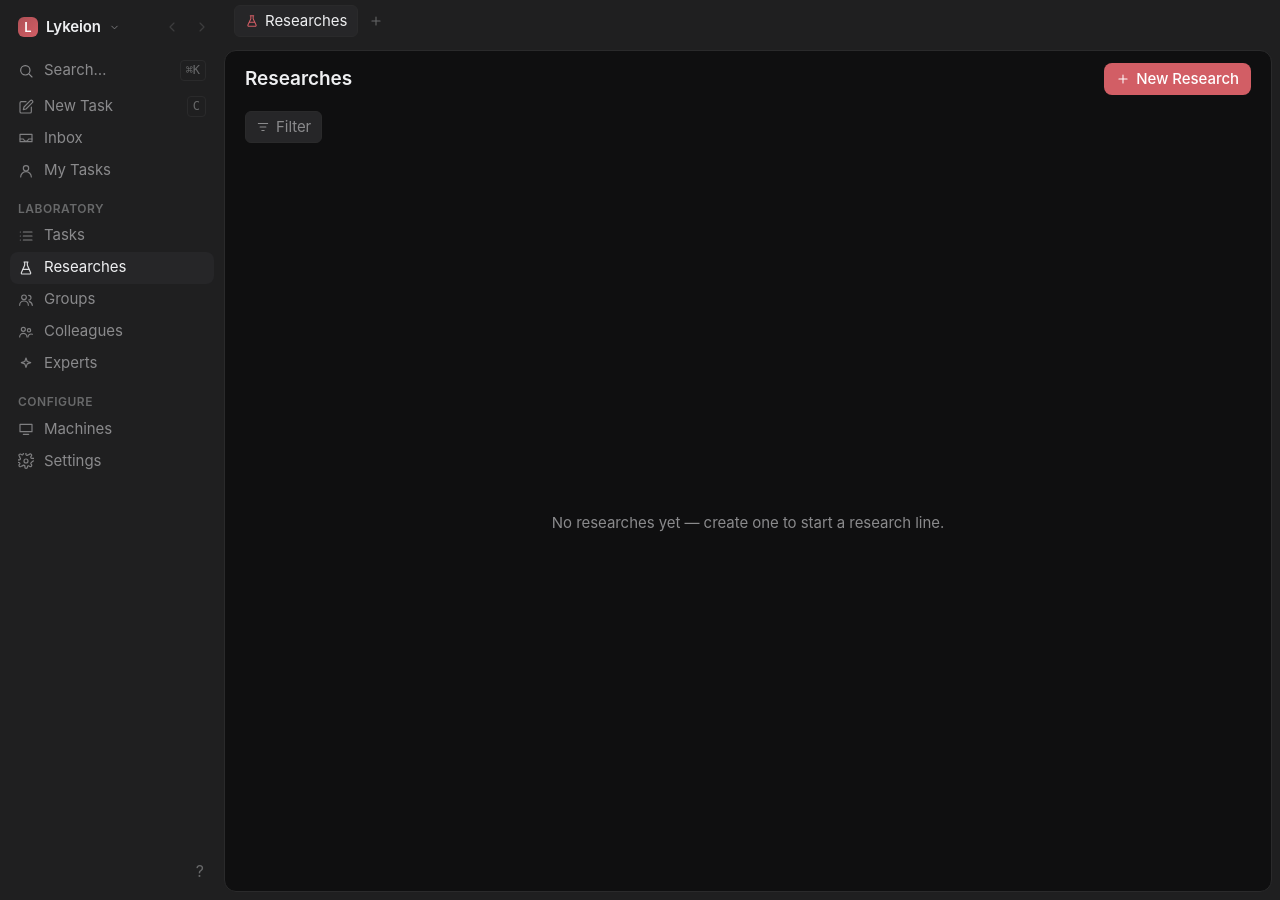
Test: a session that lapses mid-visit lands on the sign-in screen, not a shell stuck failing silently
Check: the button with aria-label "Workspace" is shown, box [10, 10, 128, 44]
Click the link "Inbox".
click(50, 138)  # box [18, 128, 83, 147]
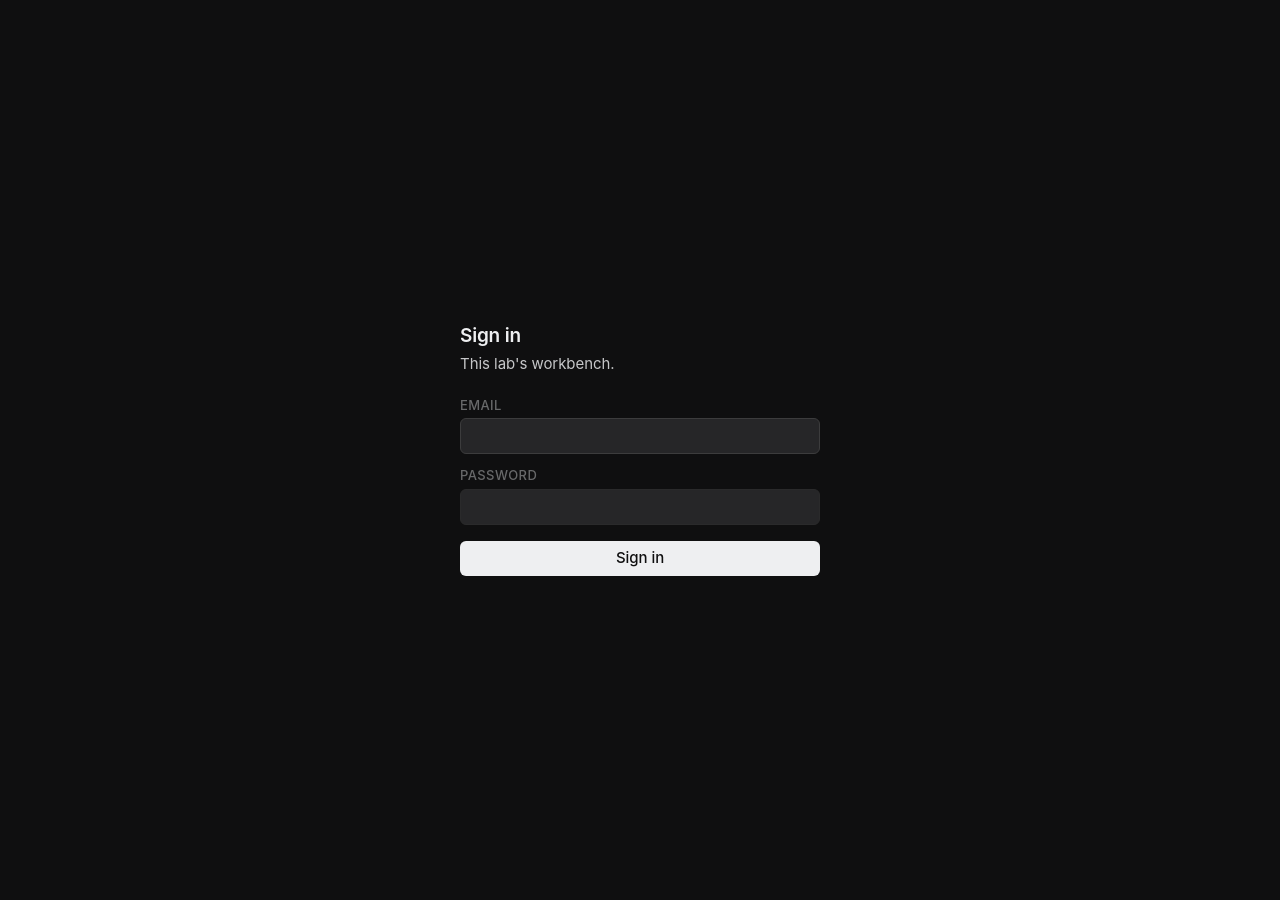
Check: the button "Sign in" is shown, box [460, 541, 820, 576]
Check: the button "Workspace" is gone
